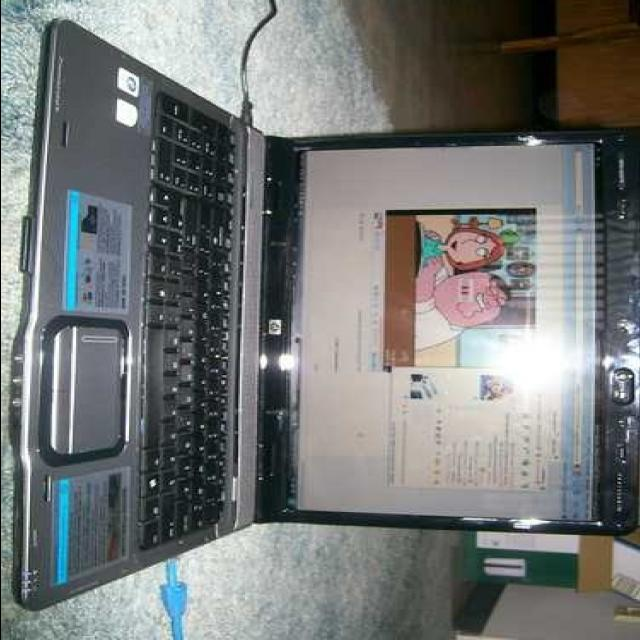laptop: (9, 8, 610, 600)
